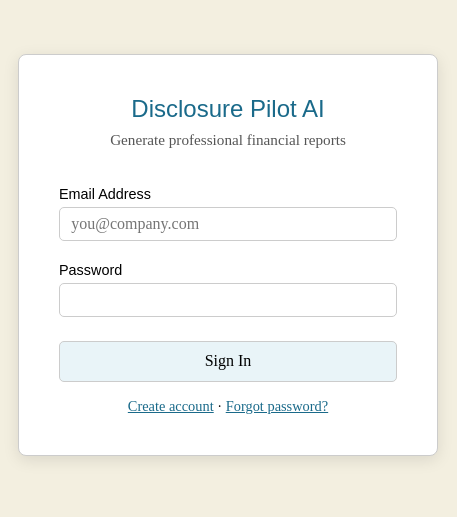
Test case: LoginPage › shows toggle to reset password mode
Click the link "Forgot password?" at coordinates (277, 406), box [226,398,328,414]
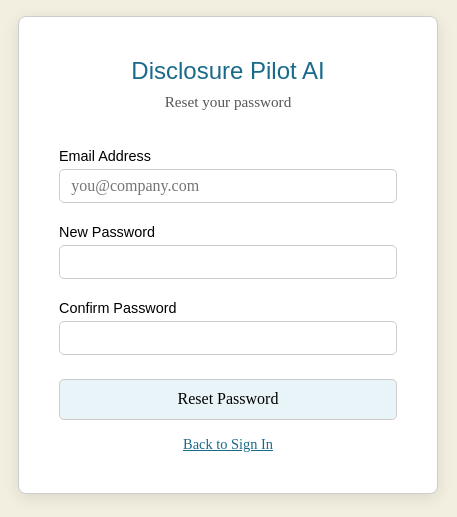
Check: the button "Reset Password" is shown, box [59,379,397,420]
